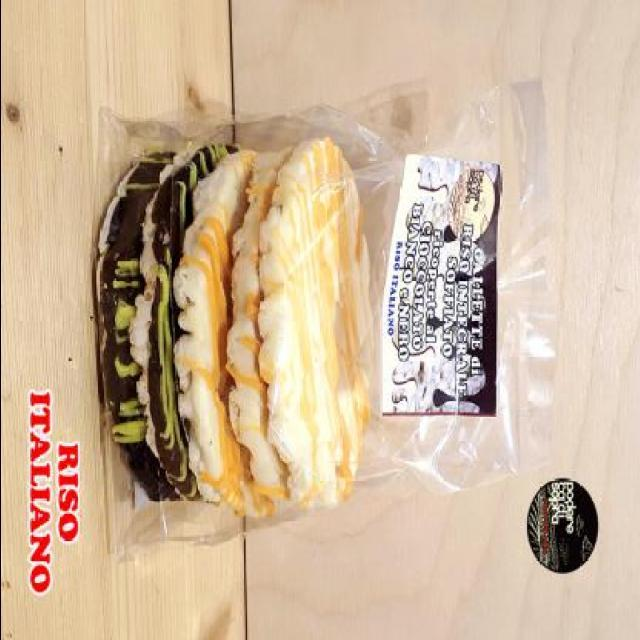Gallette di riso: (85, 60, 564, 577)
